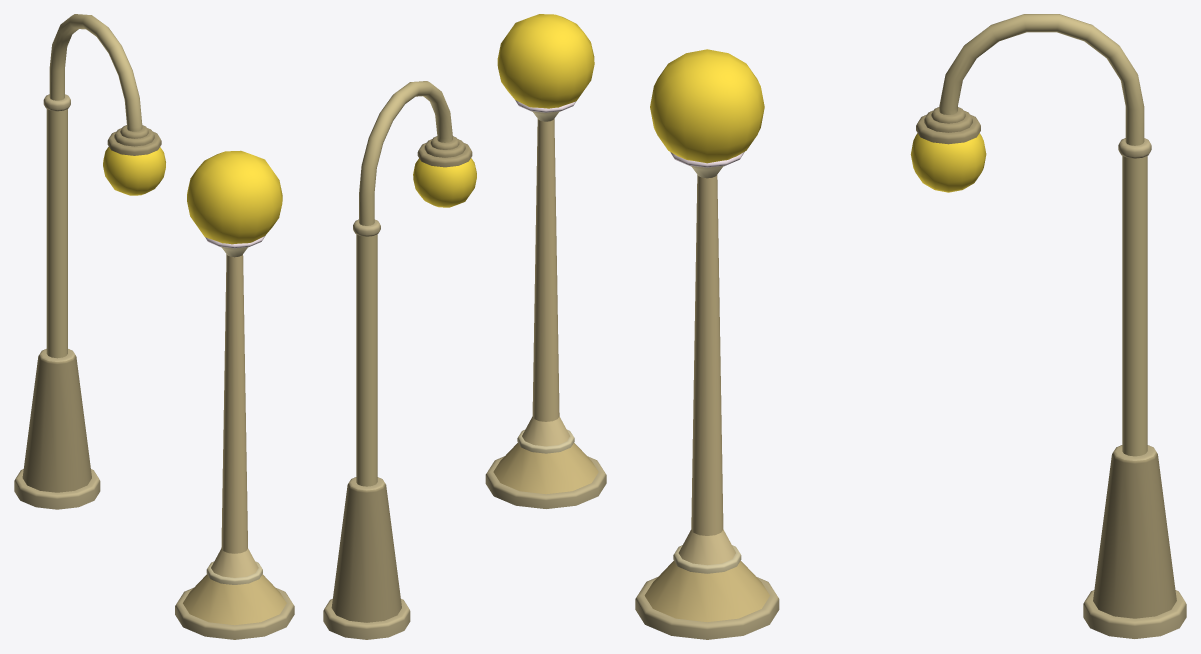
File: Final_Lamp.fbx
The picture shows the model from 3 angles, left to right: view 1: azimuth 30°, elevation 25°; view 2: azimuth 150°, elevation 25°; view 3: azimuth 270°, elevation 25°; orthographic projection. The views are drawn at different scales.
Parts seen in each view (by area): view 1: polySurface302, Cylinder_002; view 2: polySurface302, Cylinder_002; view 3: polySurface302, Cylinder_002.
Part boxes in pixels (x1=…): polySurface302: x1=14, y1=14, x2=165, y2=509; Cylinder_002: x1=175, y1=150, x2=294, y2=639; polySurface302: x1=323, y1=81, x2=476, y2=639; Cylinder_002: x1=485, y1=14, x2=606, y2=508; polySurface302: x1=910, y1=14, x2=1186, y2=638; Cylinder_002: x1=635, y1=49, x2=779, y2=639.
Size of the model in its own units: 76.35 by 352 by 292.
